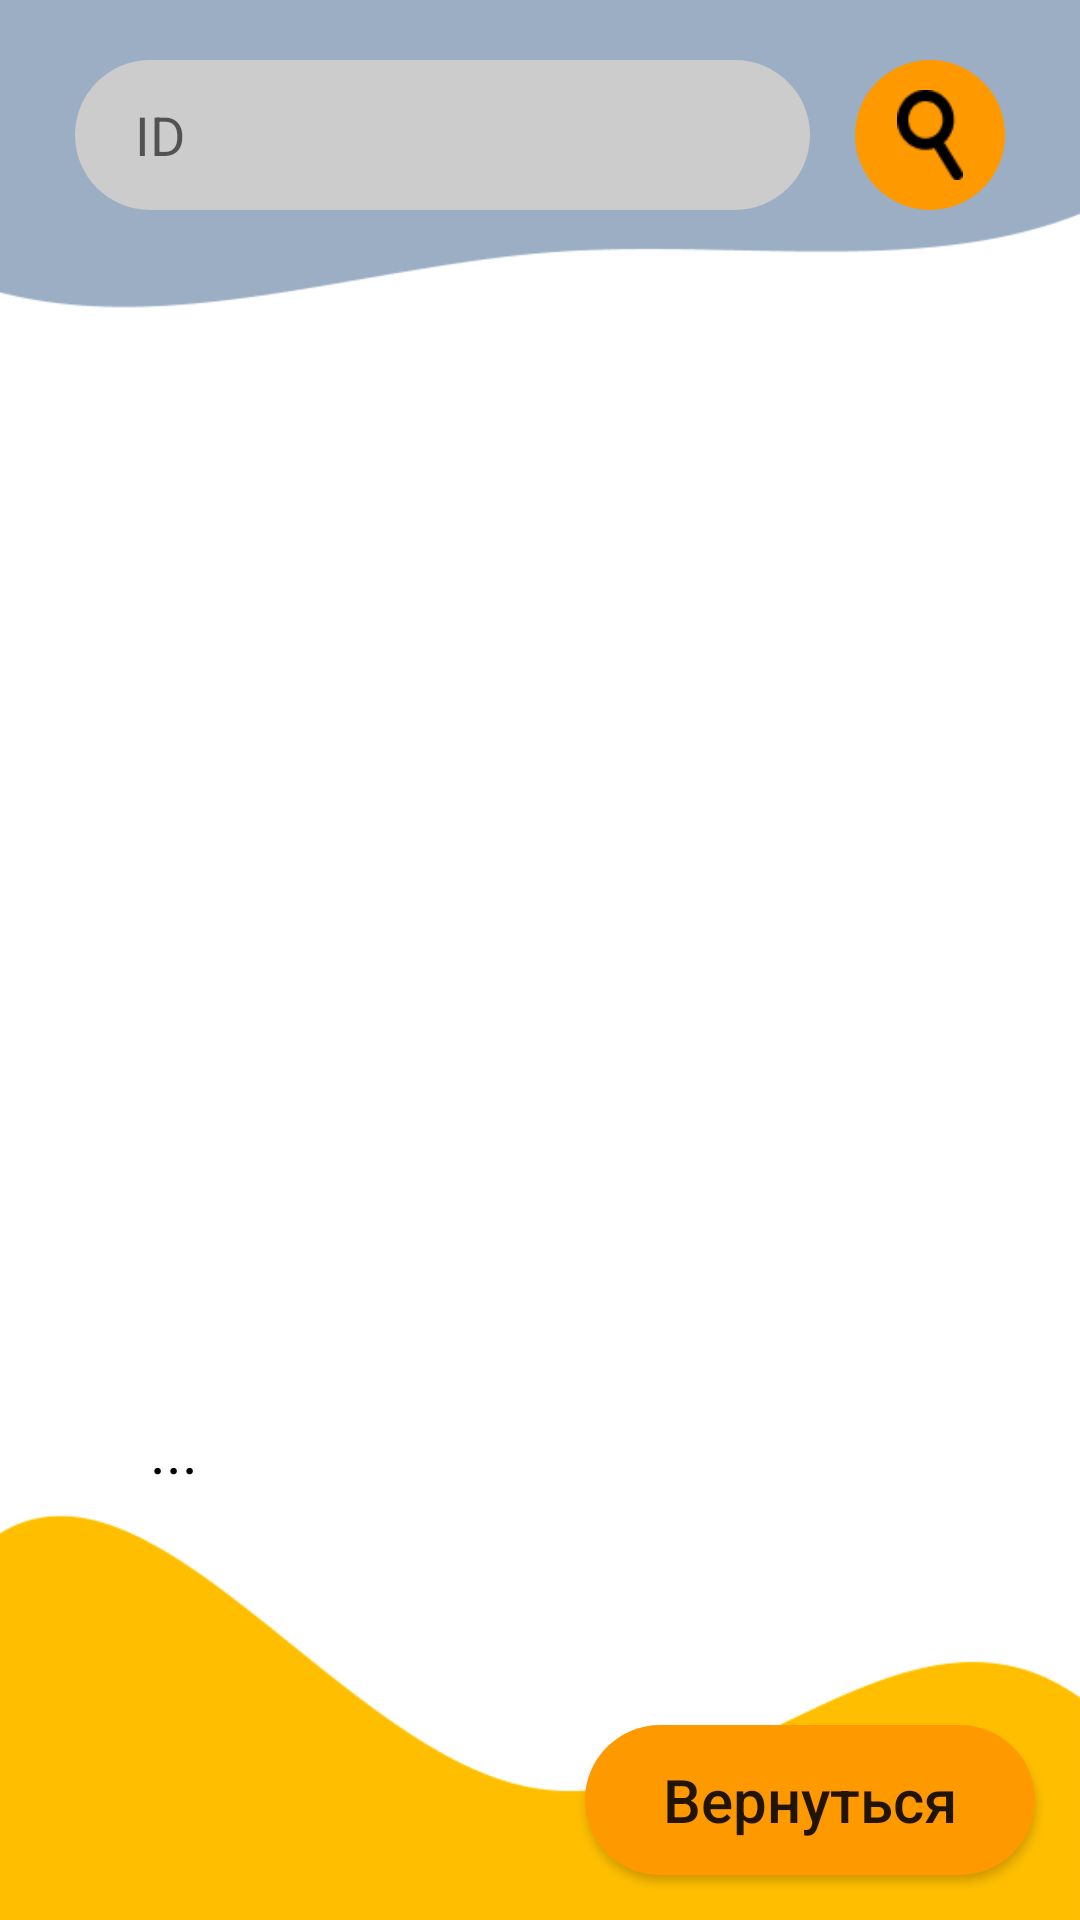

Icon click points for this 1080x1920 phone screenshot, format (x,y):
search: (930,135)
